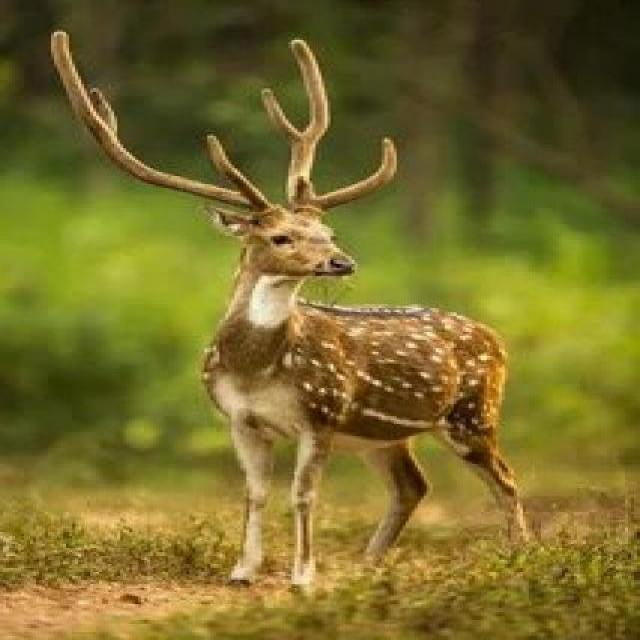deer: (44, 72, 615, 572)
